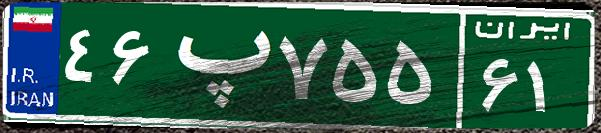1: (525, 38, 570, 115)
4: (57, 26, 110, 107)
5: (385, 28, 445, 110), (330, 28, 385, 110)
6: (475, 38, 525, 113), (110, 28, 158, 105)
7: (273, 28, 330, 110)
پ: (158, 15, 273, 115)
